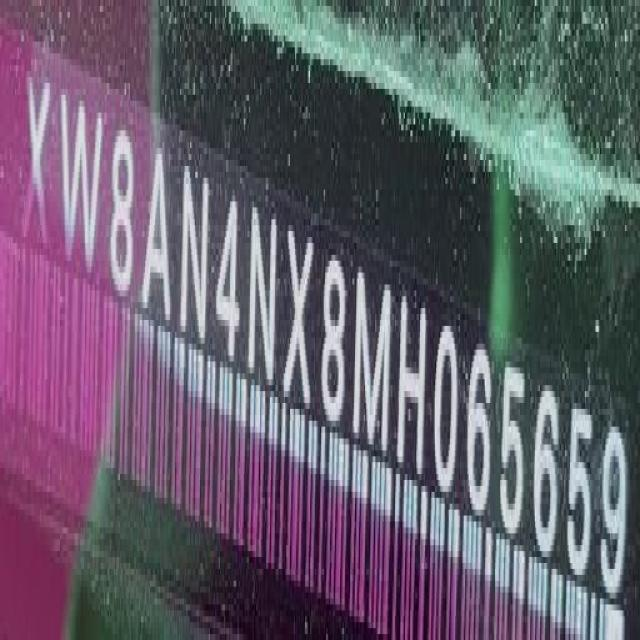0: (433, 318, 459, 498)
4: (213, 182, 243, 372)
5: (565, 401, 592, 587), (501, 353, 528, 538)
6: (532, 374, 560, 560), (464, 340, 492, 523)
8: (320, 250, 346, 426), (111, 129, 137, 303)
9: (601, 422, 630, 604)
A: (143, 139, 174, 331)
H: (397, 289, 428, 479)
M: (354, 274, 392, 461)
N: (247, 200, 280, 390), (182, 166, 212, 354)
W: (59, 86, 101, 282)
X: (284, 215, 318, 415), (25, 68, 49, 260)
